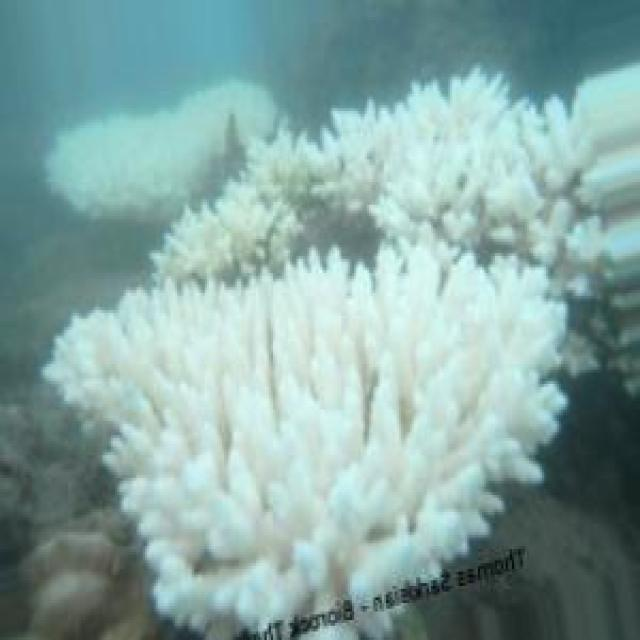bleached coral: (46, 247, 564, 629), (248, 72, 576, 248), (49, 80, 276, 218), (154, 170, 304, 281), (247, 125, 393, 216), (352, 401, 454, 526), (209, 461, 324, 558), (49, 122, 205, 193), (433, 97, 538, 193), (158, 316, 250, 421), (294, 290, 373, 407), (49, 319, 132, 424), (119, 435, 192, 532), (431, 259, 503, 341)
